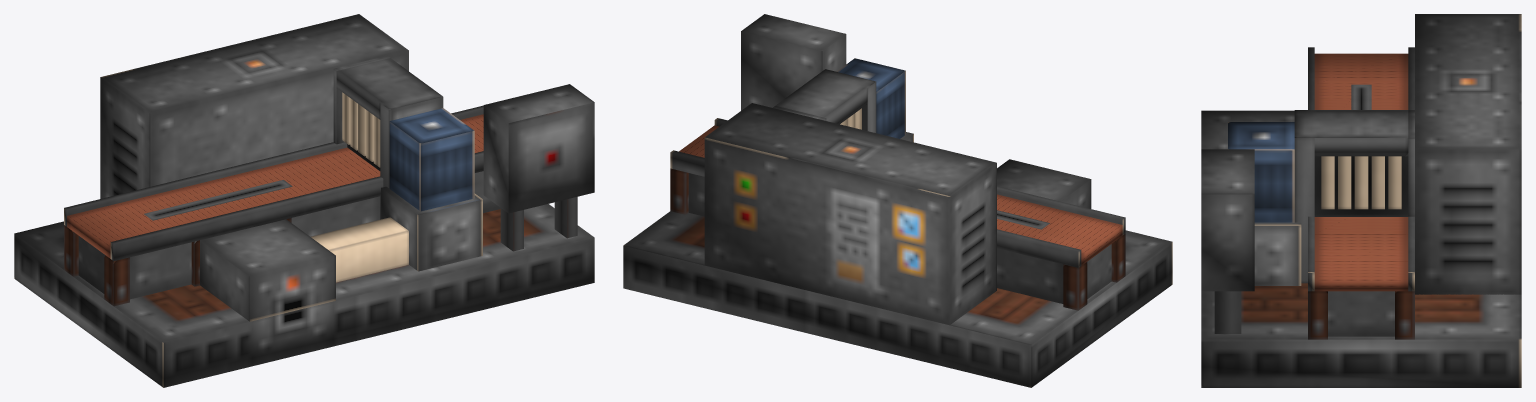
Rendered from sawmill_mirrored.obj.
The picture shows the model from 3 angles, left to right: view 1: azimuth 30°, elevation 25°; view 2: azimuth 150°, elevation 25°; view 3: azimuth 270°, elevation 25°; orthographic projection. The views are drawn at different scales.
Parts seen in each view (by area): view 1: base, redstone, conveyors; view 2: base, redstone, conveyors; view 3: base, conveyors, redstone.
Part boxes in pixels (box(x1,y1,x2,y2)): base: box(14, 14, 594, 387); redstone: box(483, 84, 594, 251); conveyors: box(67, 114, 483, 258); base: box(623, 58, 1172, 387); redstone: box(741, 14, 846, 110); conveyors: box(679, 125, 1122, 265); base: box(1201, 14, 1521, 387); conveyors: box(1314, 53, 1408, 291); redstone: box(1201, 149, 1254, 333).
Size of the model in its own units: 5 by 2 by 3.
